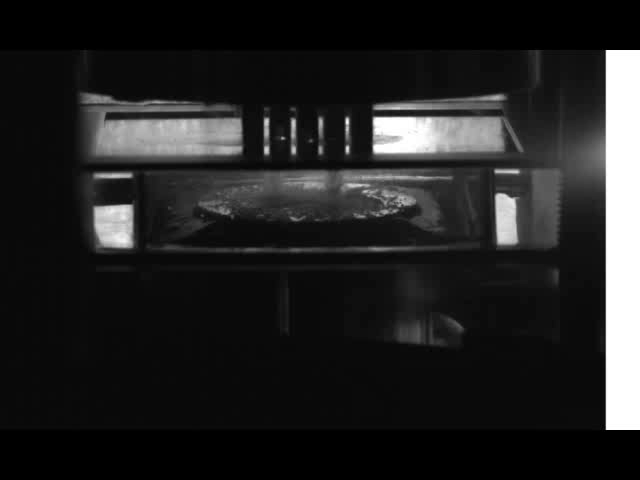Zona de teste: (193, 172, 419, 226)
